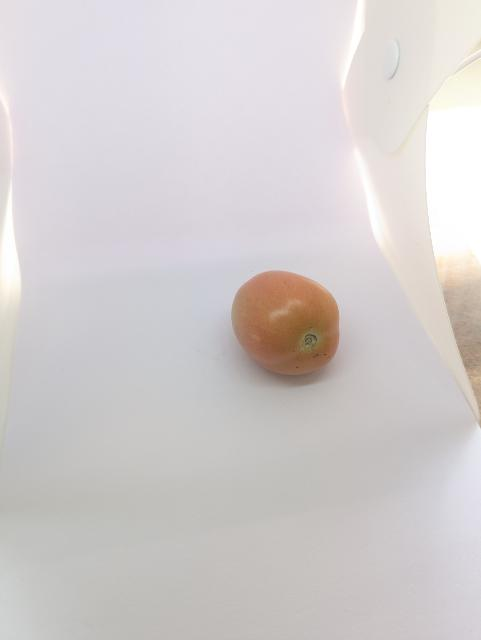turning: (222, 262, 347, 382)
